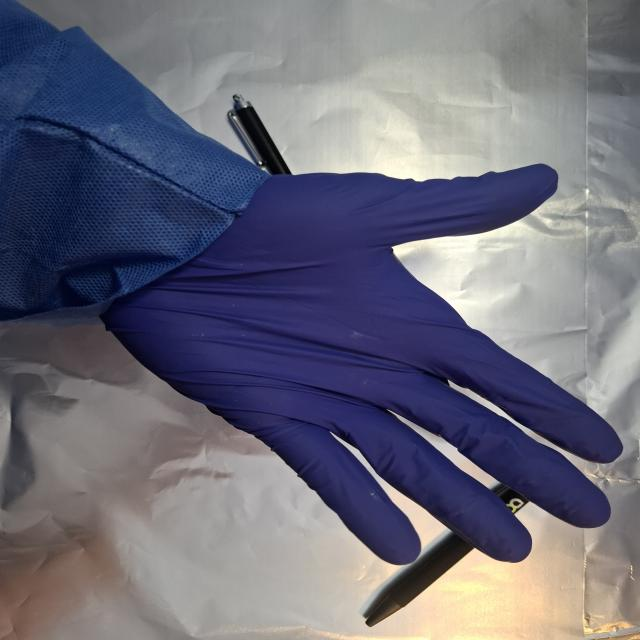glove_on: (98, 161, 627, 568)
